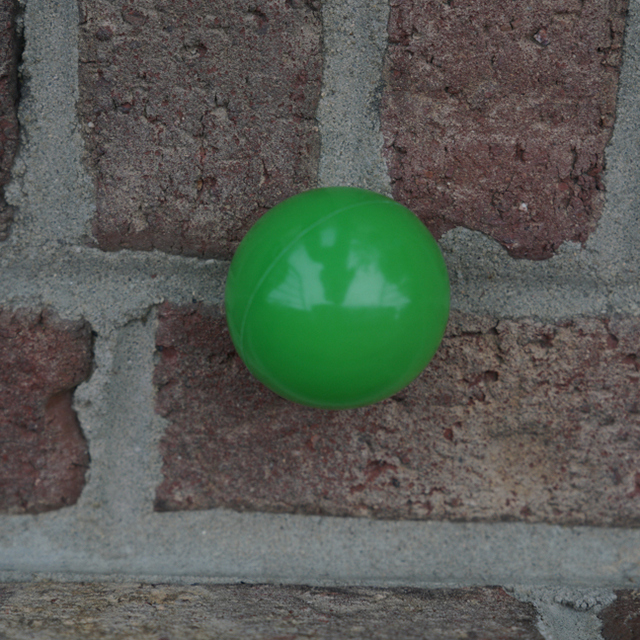Ball: (226, 186, 448, 413)
